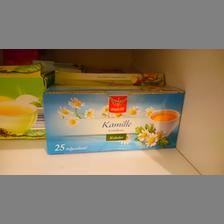Tee: (42, 82, 184, 154)
